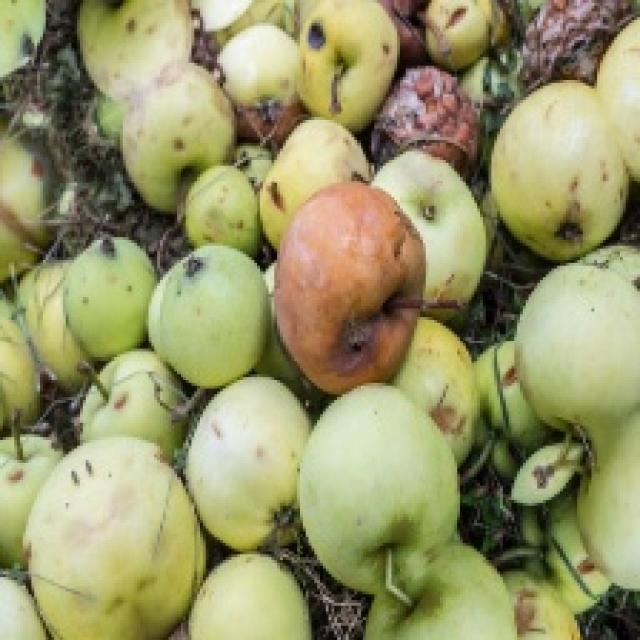rotten_apple: (281, 186, 421, 386), (380, 68, 478, 166), (220, 30, 303, 142)
